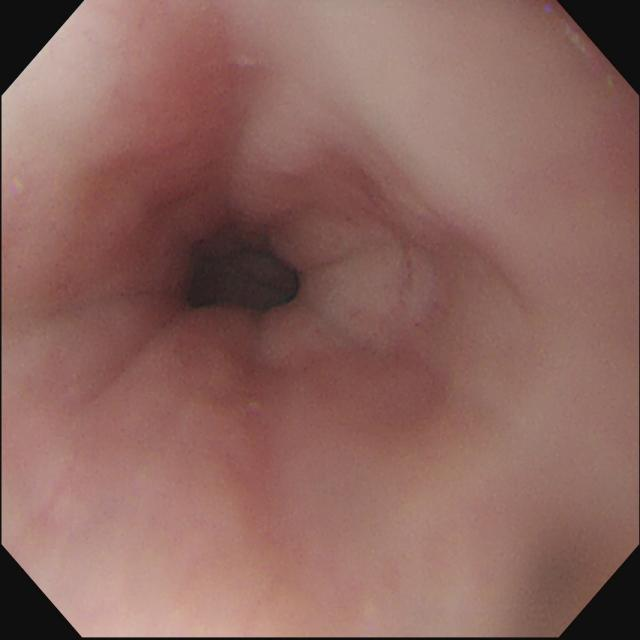E: (186, 249, 302, 308)
